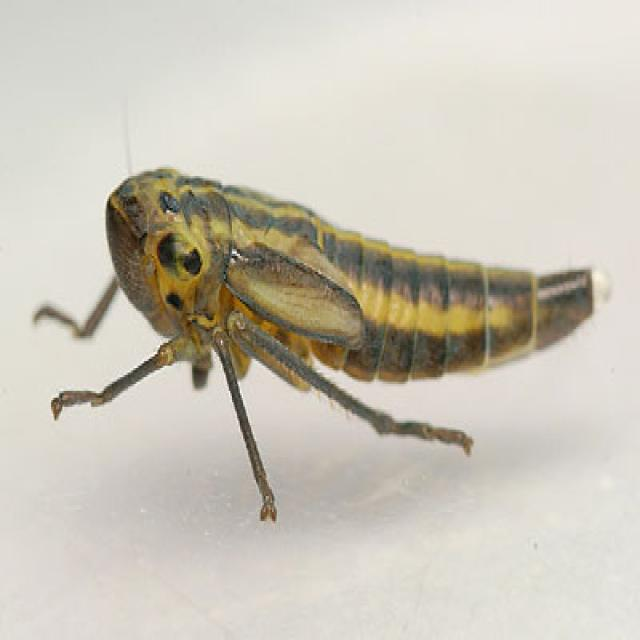wereng pada daun padi: (31, 162, 612, 526)
